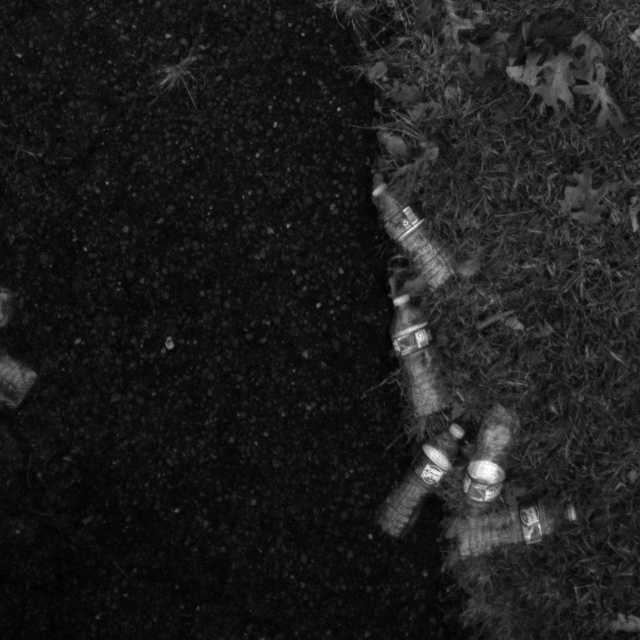bottle: (363, 176, 471, 290), (437, 495, 580, 567), (382, 298, 457, 422), (458, 402, 523, 521), (386, 424, 451, 536)
